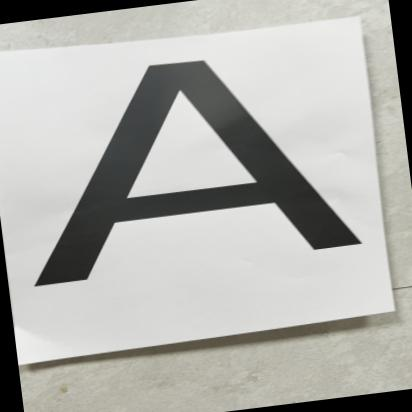seat: (0, 33, 376, 293)
